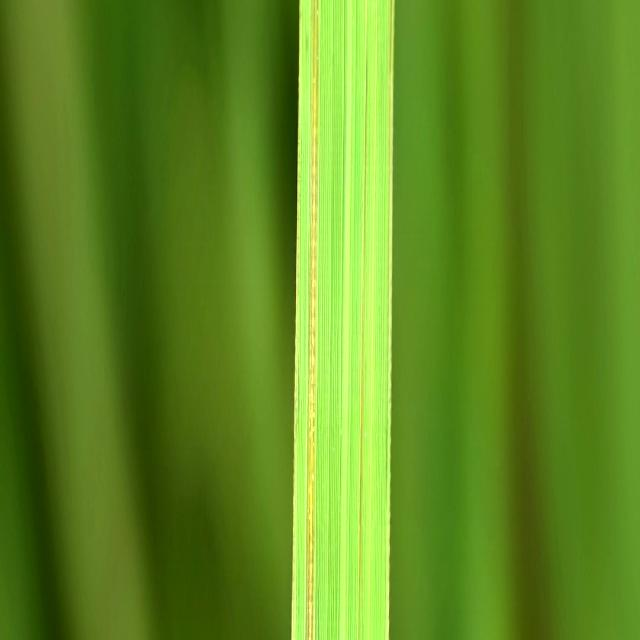BLS: (307, 0, 319, 640), (291, 0, 302, 640)
